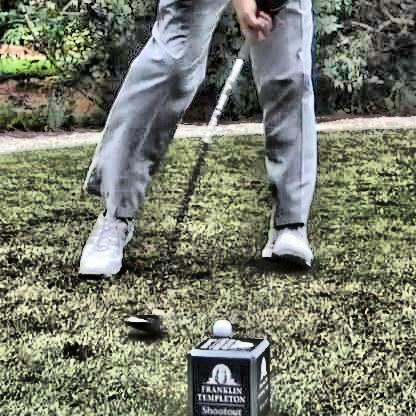golfball: (207, 314, 233, 335)
